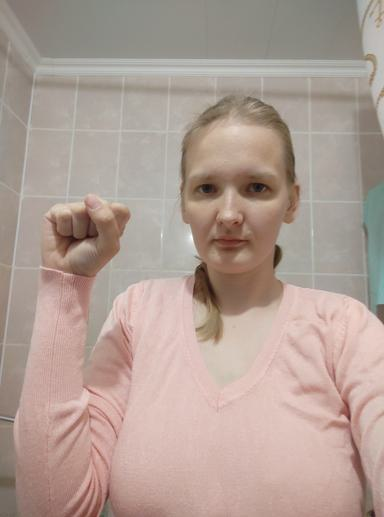fist: (39, 193, 133, 281)
